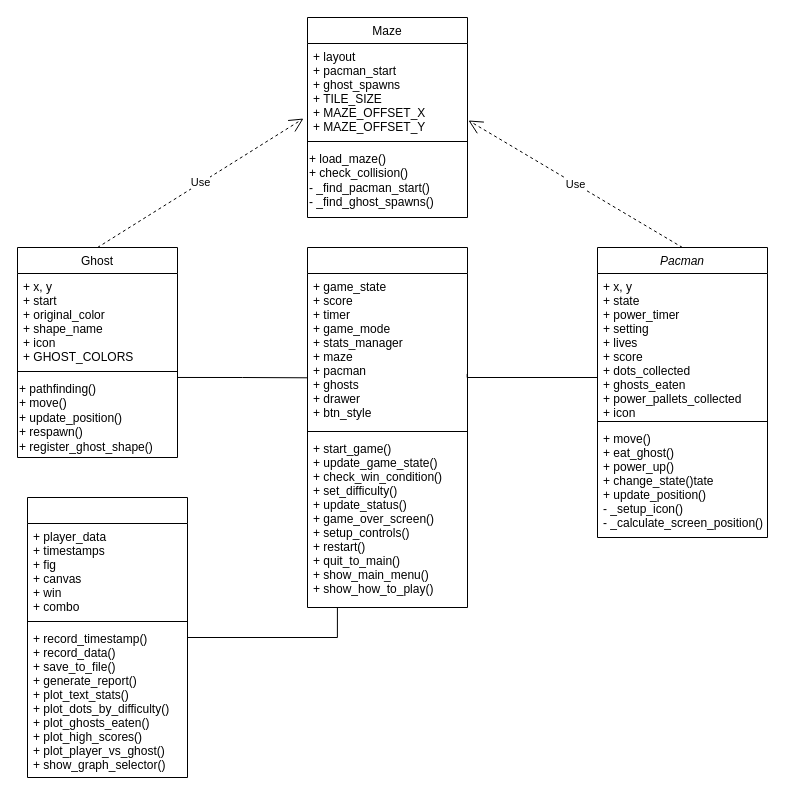
This 785x798 diagram has some shape labels left out. The shapes that lost their labels are listed below. From the top down, each one's box as (x1, y1, x2, y2) in pixels, then its label:
(306, 246, 468, 608): GameController
(26, 496, 188, 778): StatisticsManager
